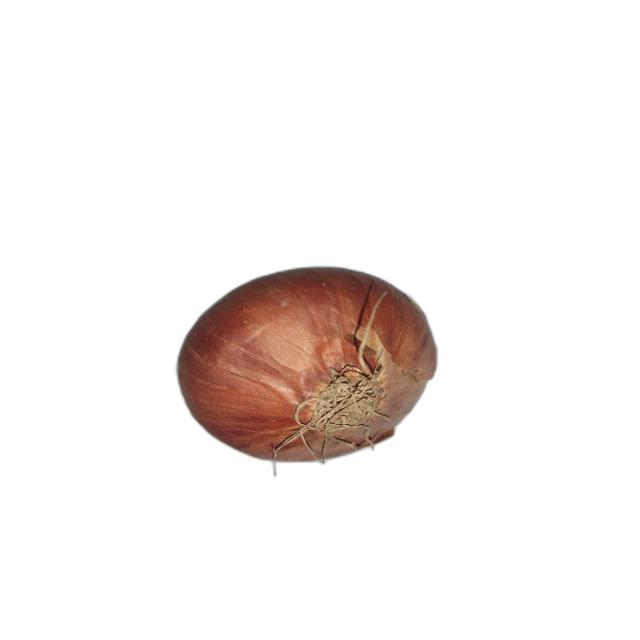onion: (176, 266, 439, 476)
